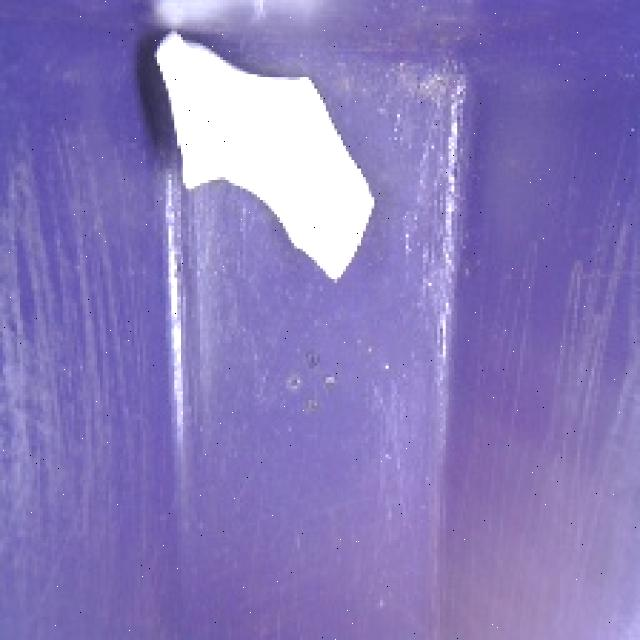china: (148, 18, 380, 292)
